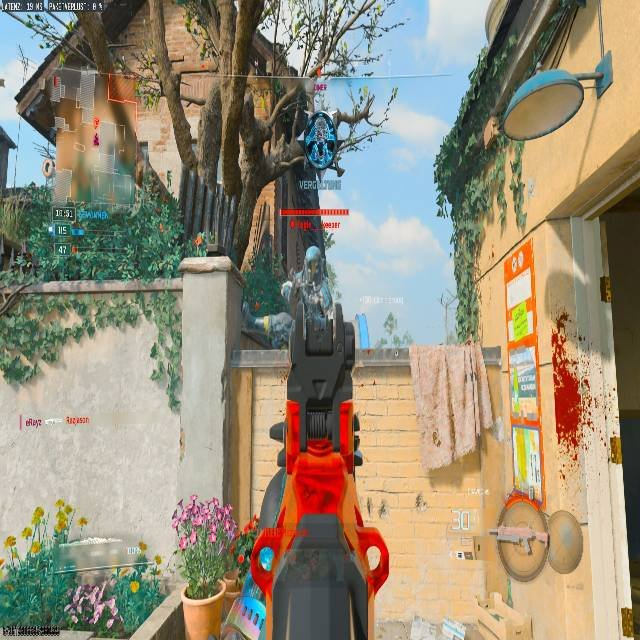player: (384, 311, 396, 335)
